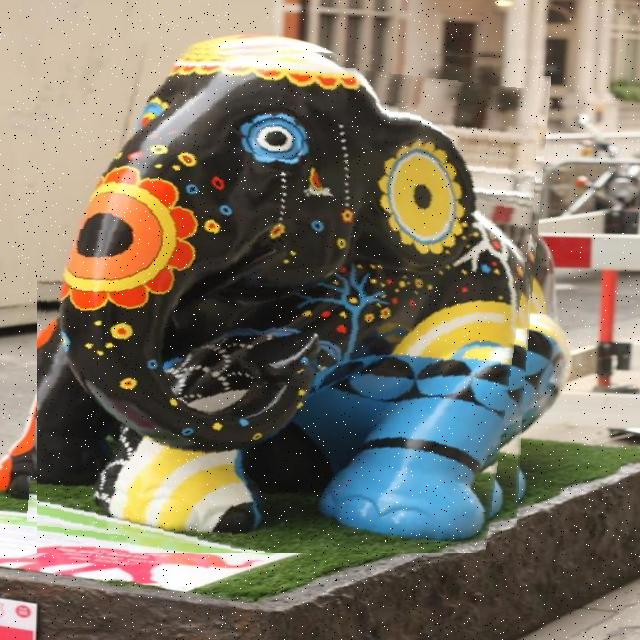elephant: (37, 44, 541, 553)
